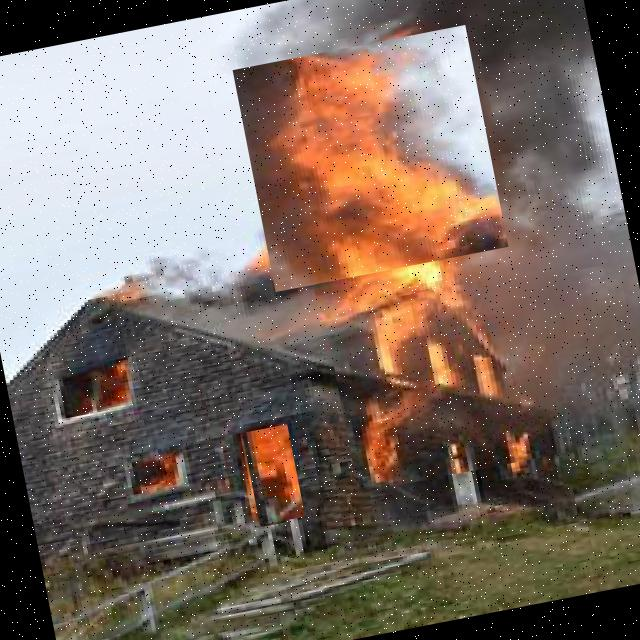fire: (232, 25, 508, 292), (324, 271, 566, 493), (242, 424, 305, 525)
